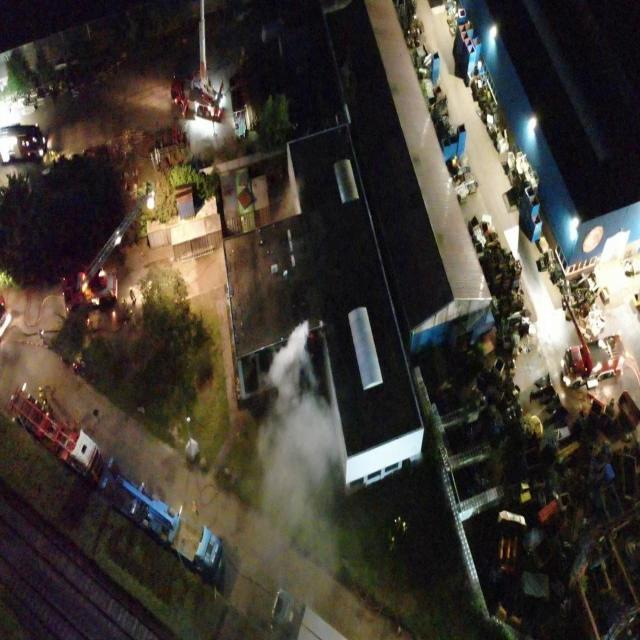Smoke: (228, 317, 350, 624), (270, 177, 305, 224)
